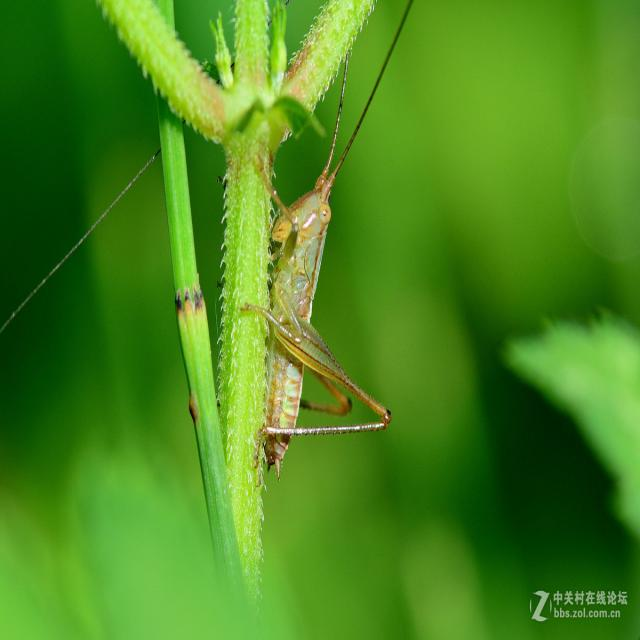ZhaMeng: (240, 119, 401, 482)
